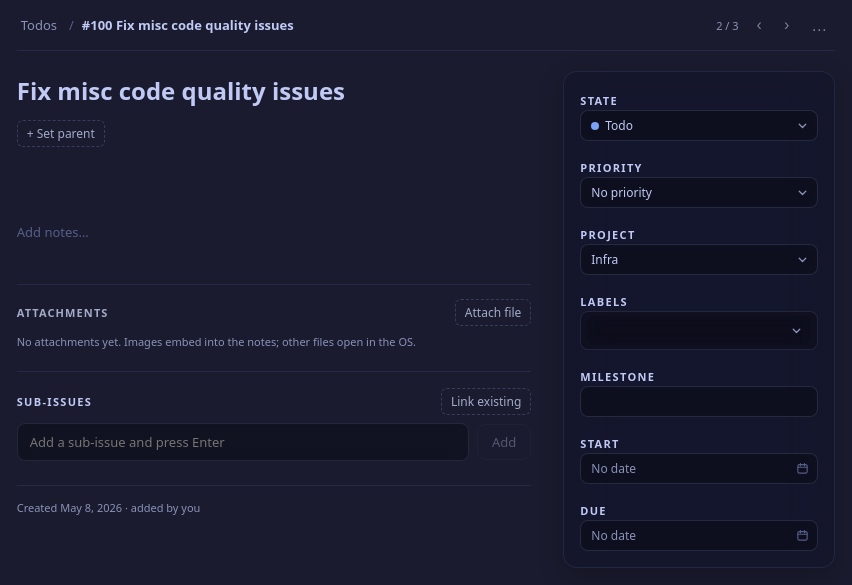
Test case: TodoDetailPage adopts an external write on blur (WARNING 4) › shows the new title after an external rename, and sends no write
The image size is (852, 585).
Focus the text box named "Title" at (274, 91), box [17, 71, 531, 110]
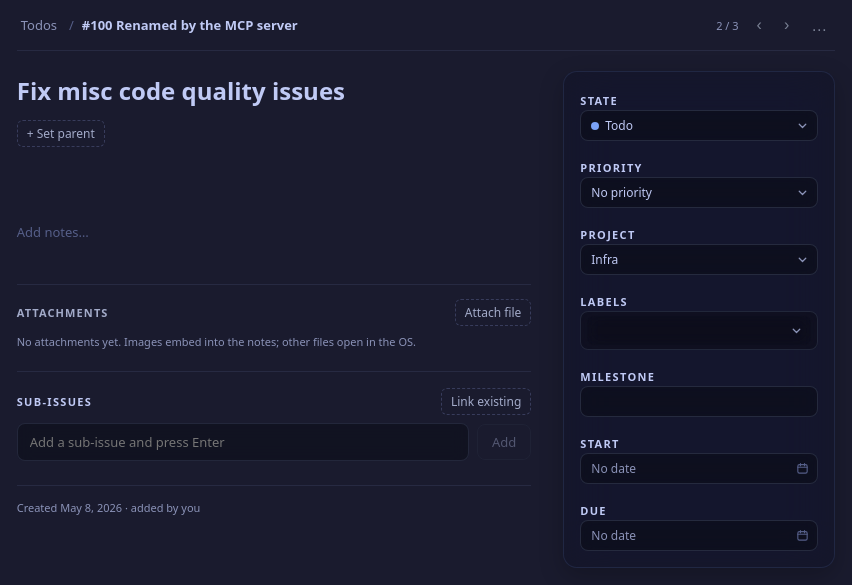
Now the text "#100 Renamed by the MCP server" is shown, box [82, 16, 298, 34]
Leave the text box named "Title", box [17, 71, 531, 110]
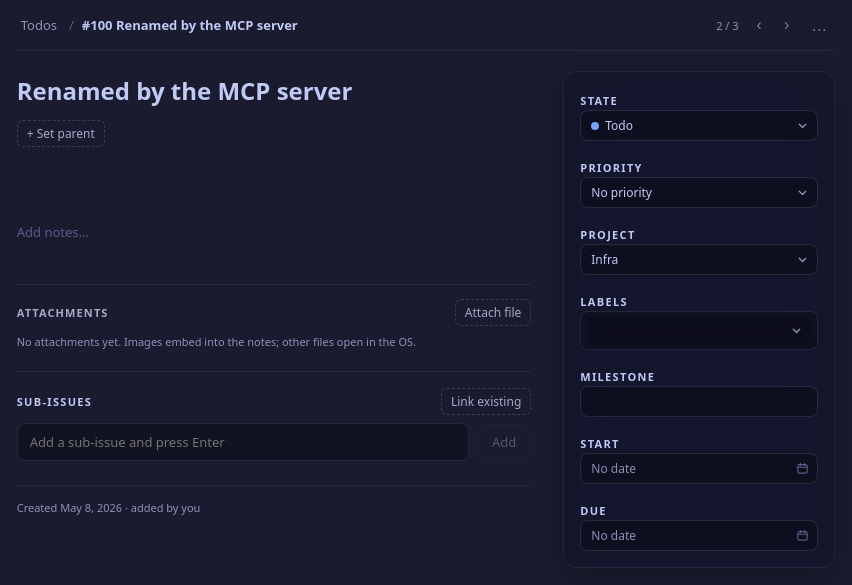
Now the text box named "Title" holds "Renamed by the MCP server", box [17, 71, 531, 110]
